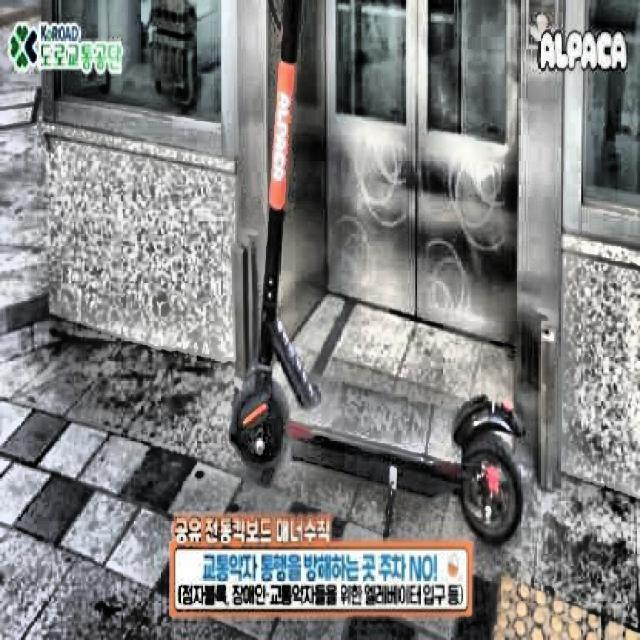bike: (286, 394, 525, 545), (452, 394, 525, 544)
